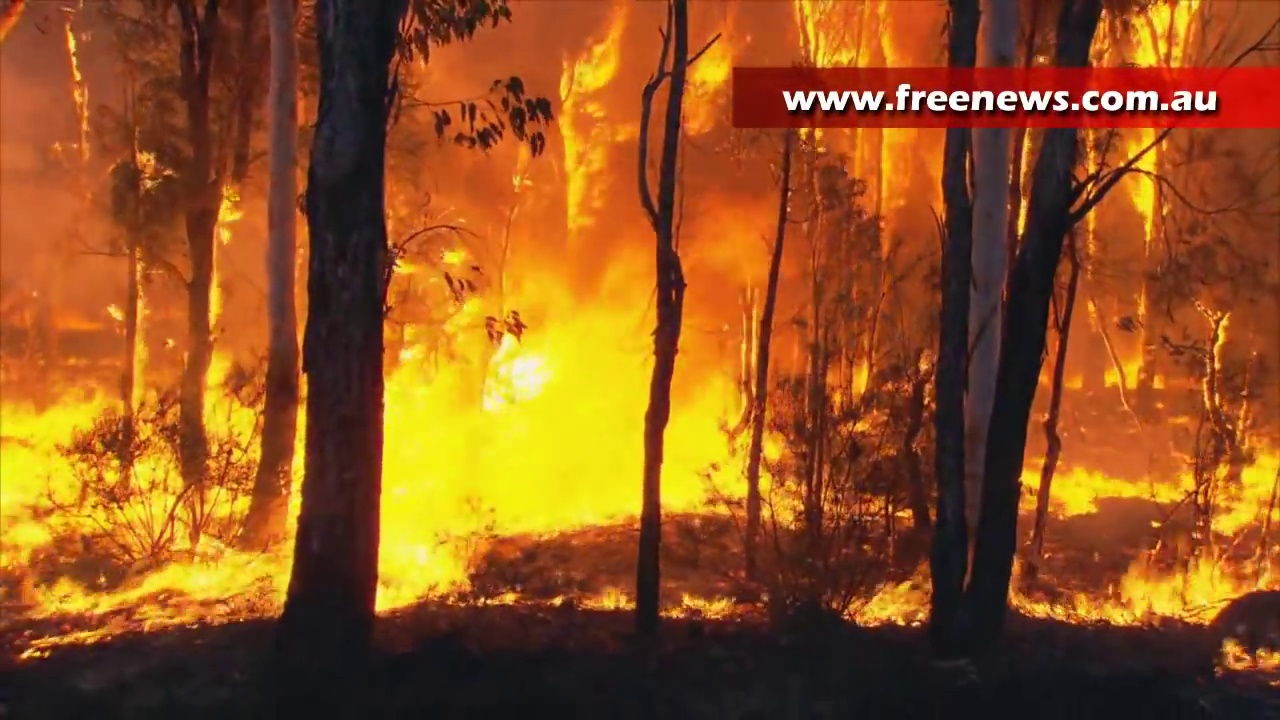fire: (378, 284, 733, 602), (6, 393, 260, 625), (1012, 436, 1280, 618), (560, 11, 623, 224), (1020, 458, 1192, 517), (795, 1, 891, 63), (852, 572, 933, 625), (682, 38, 726, 133), (1134, 1, 1190, 63), (1124, 131, 1156, 210), (1219, 644, 1280, 666)
